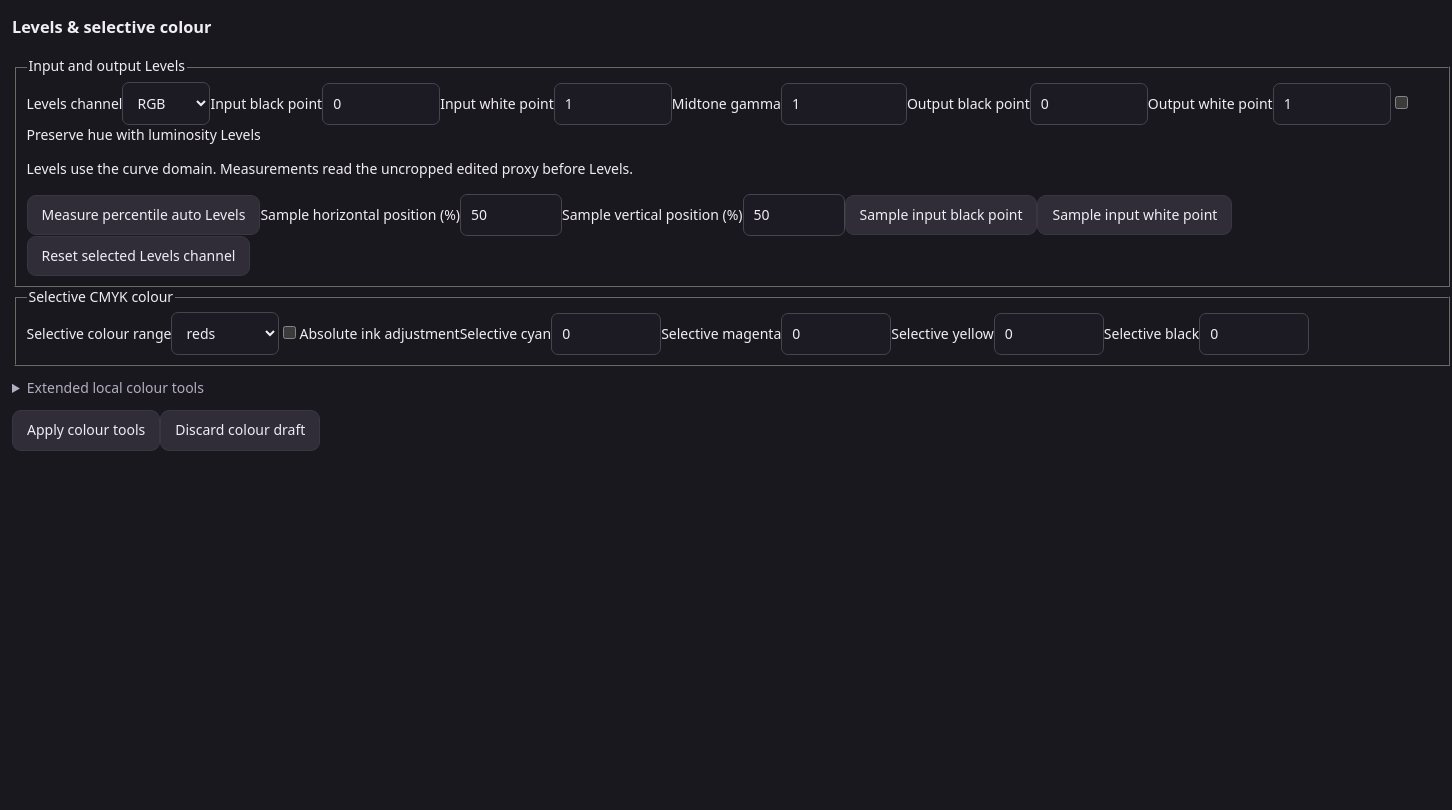
Test case: selects the measured HSL band without replacing draft colour settings
Replace the text in the number field labelled "Selective cyan" with "18" at (606, 334), box [551, 313, 661, 355]
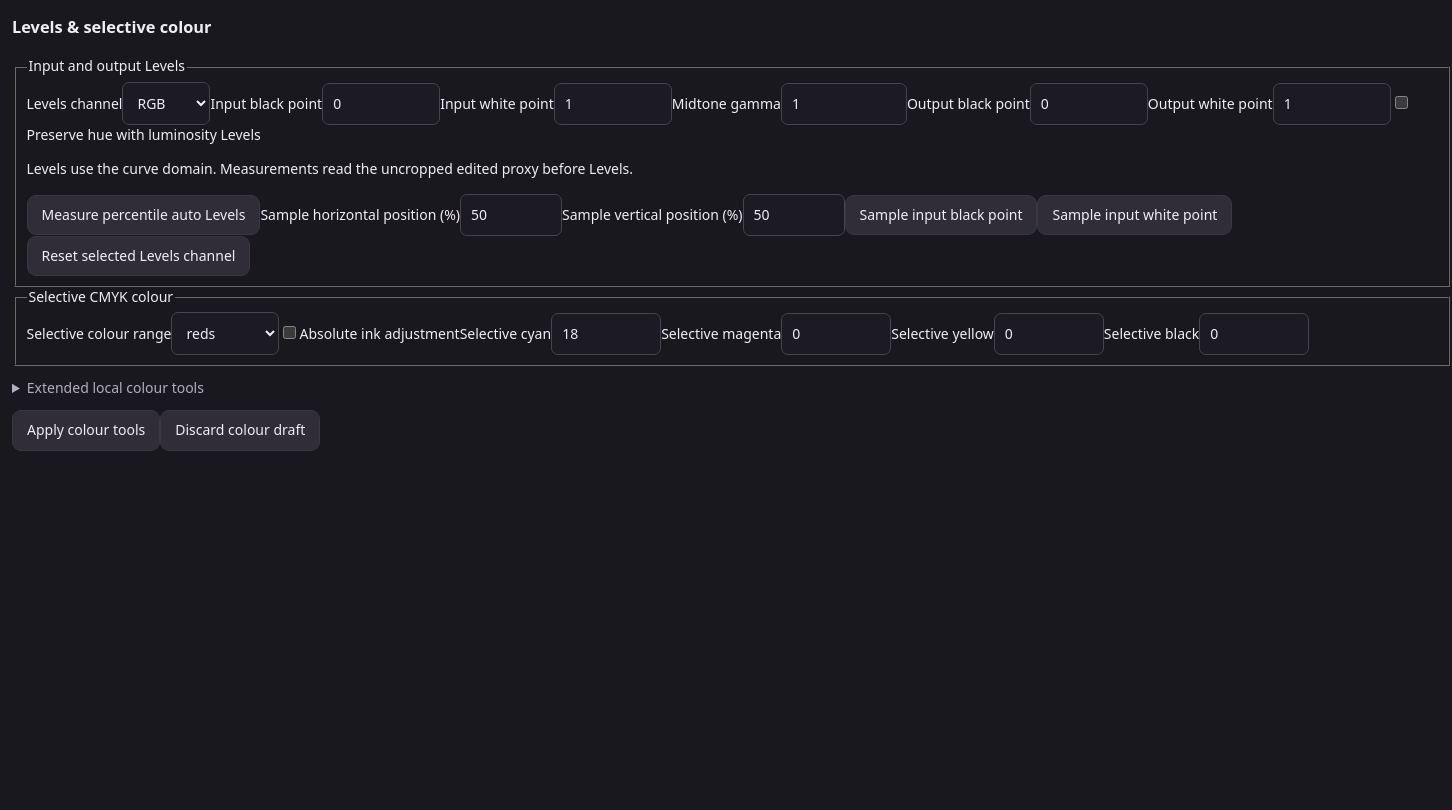
Click the heading "Extended local colour tools".
click(115, 388)  # box [27, 378, 204, 397]
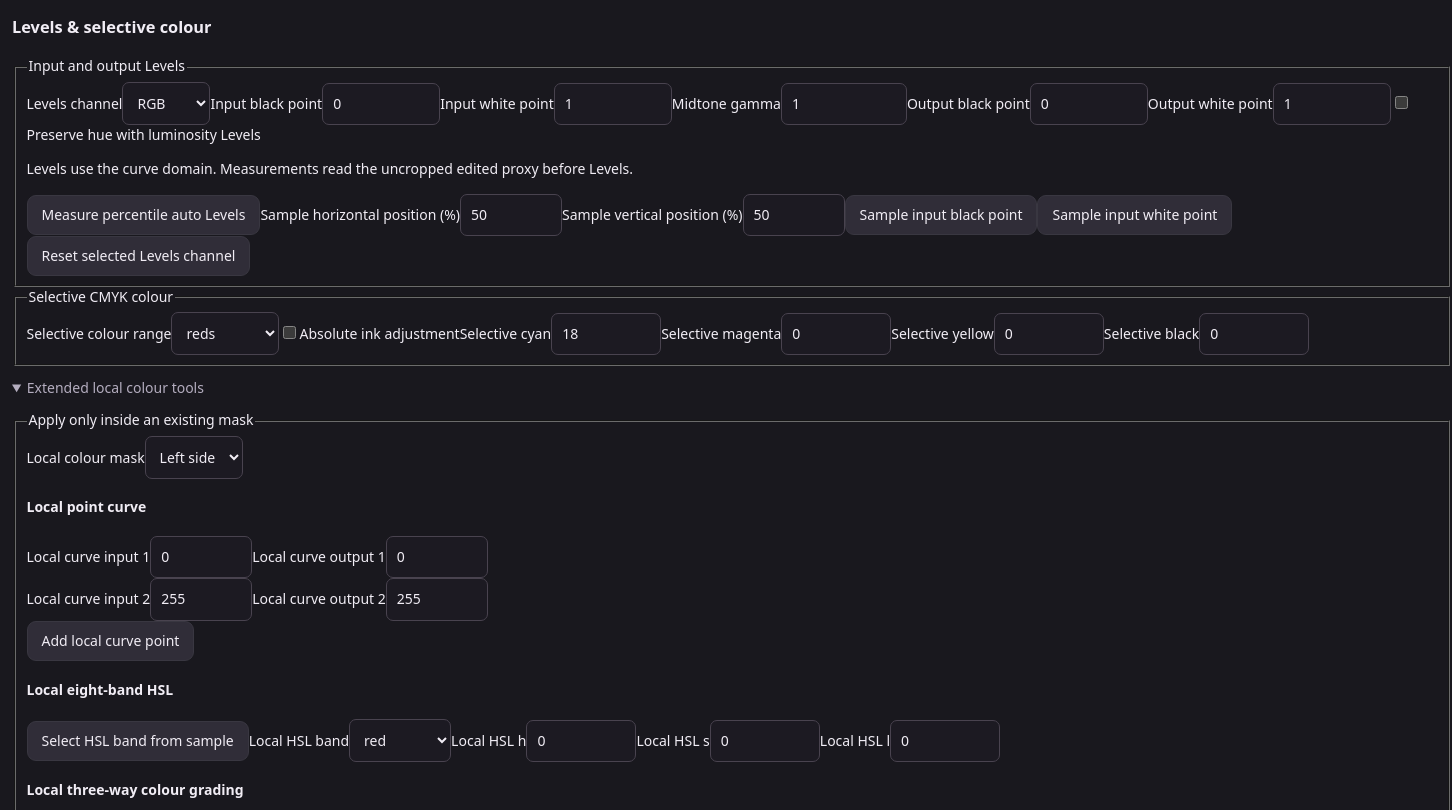
Click the button "Select HSL band from sample".
click(138, 741)  # box [26, 720, 249, 761]
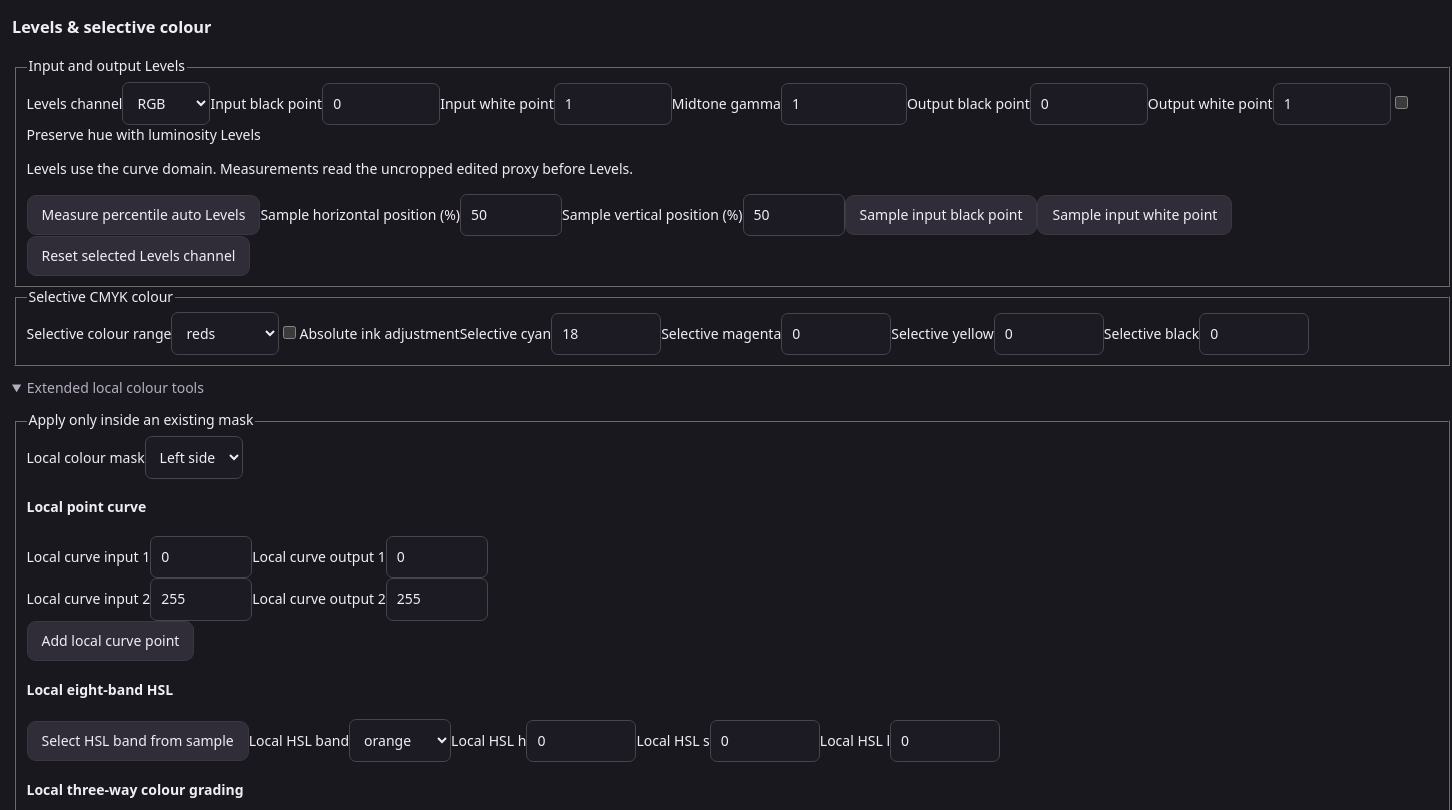
Now the dropdown labelled "Local HSL band" shows "orange", box [349, 718, 451, 762]
